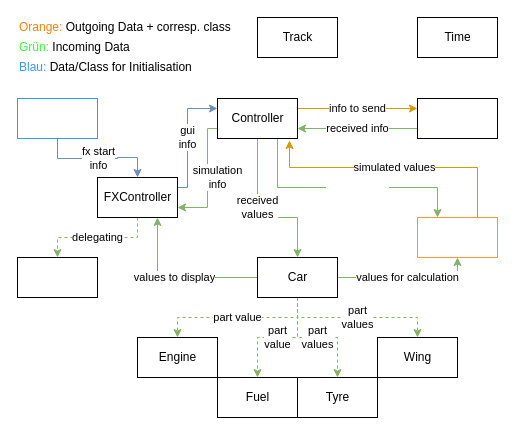
Image size: 515x435. Some labels were removed from this diagram. Here are the shapes that lost their labels. From the top down, the centre of each, then its label:
[57,118]: Application
[457,118]: NodeRed Communication
[457,237]: Simulation
[57,277]: FXController Delegation
